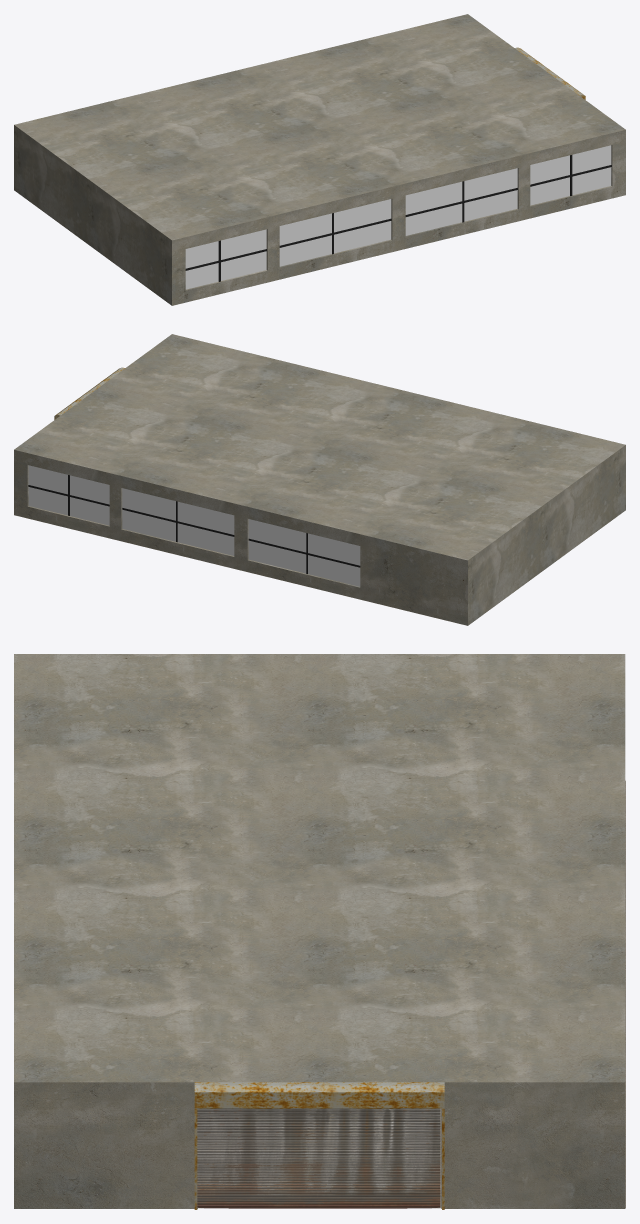
The model's file is GARAGE (1).fbx.
The picture shows the model from 3 angles, top to bottom: view 1: azimuth 30°, elevation 25°; view 2: azimuth 150°, elevation 25°; view 3: azimuth 270°, elevation 25°; orthographic projection. The views are drawn at different scales.
Visible parts, largest first — view 1: Cube.012, Cube.013, Cube.022; view 2: Cube.012, Cube.013, Cube.022; view 3: Cube.012, Cube.018, Cube.019.
Part boxes in pixels (x1=…): Cube.012: x1=14, y1=14, x2=625, y2=305; Cube.013: x1=185, y1=145, x2=611, y2=289; Cube.022: x1=185, y1=155, x2=611, y2=281; Cube.012: x1=14, y1=334, x2=625, y2=625; Cube.013: x1=28, y1=465, x2=360, y2=586; Cube.022: x1=28, y1=475, x2=360, y2=573; Cube.012: x1=14, y1=654, x2=625, y2=1208; Cube.018: x1=197, y1=1108, x2=440, y2=1208; Cube.019: x1=194, y1=1082, x2=444, y2=1209.
Size of the model in its own units: 14172 by 1926 by 8440.
